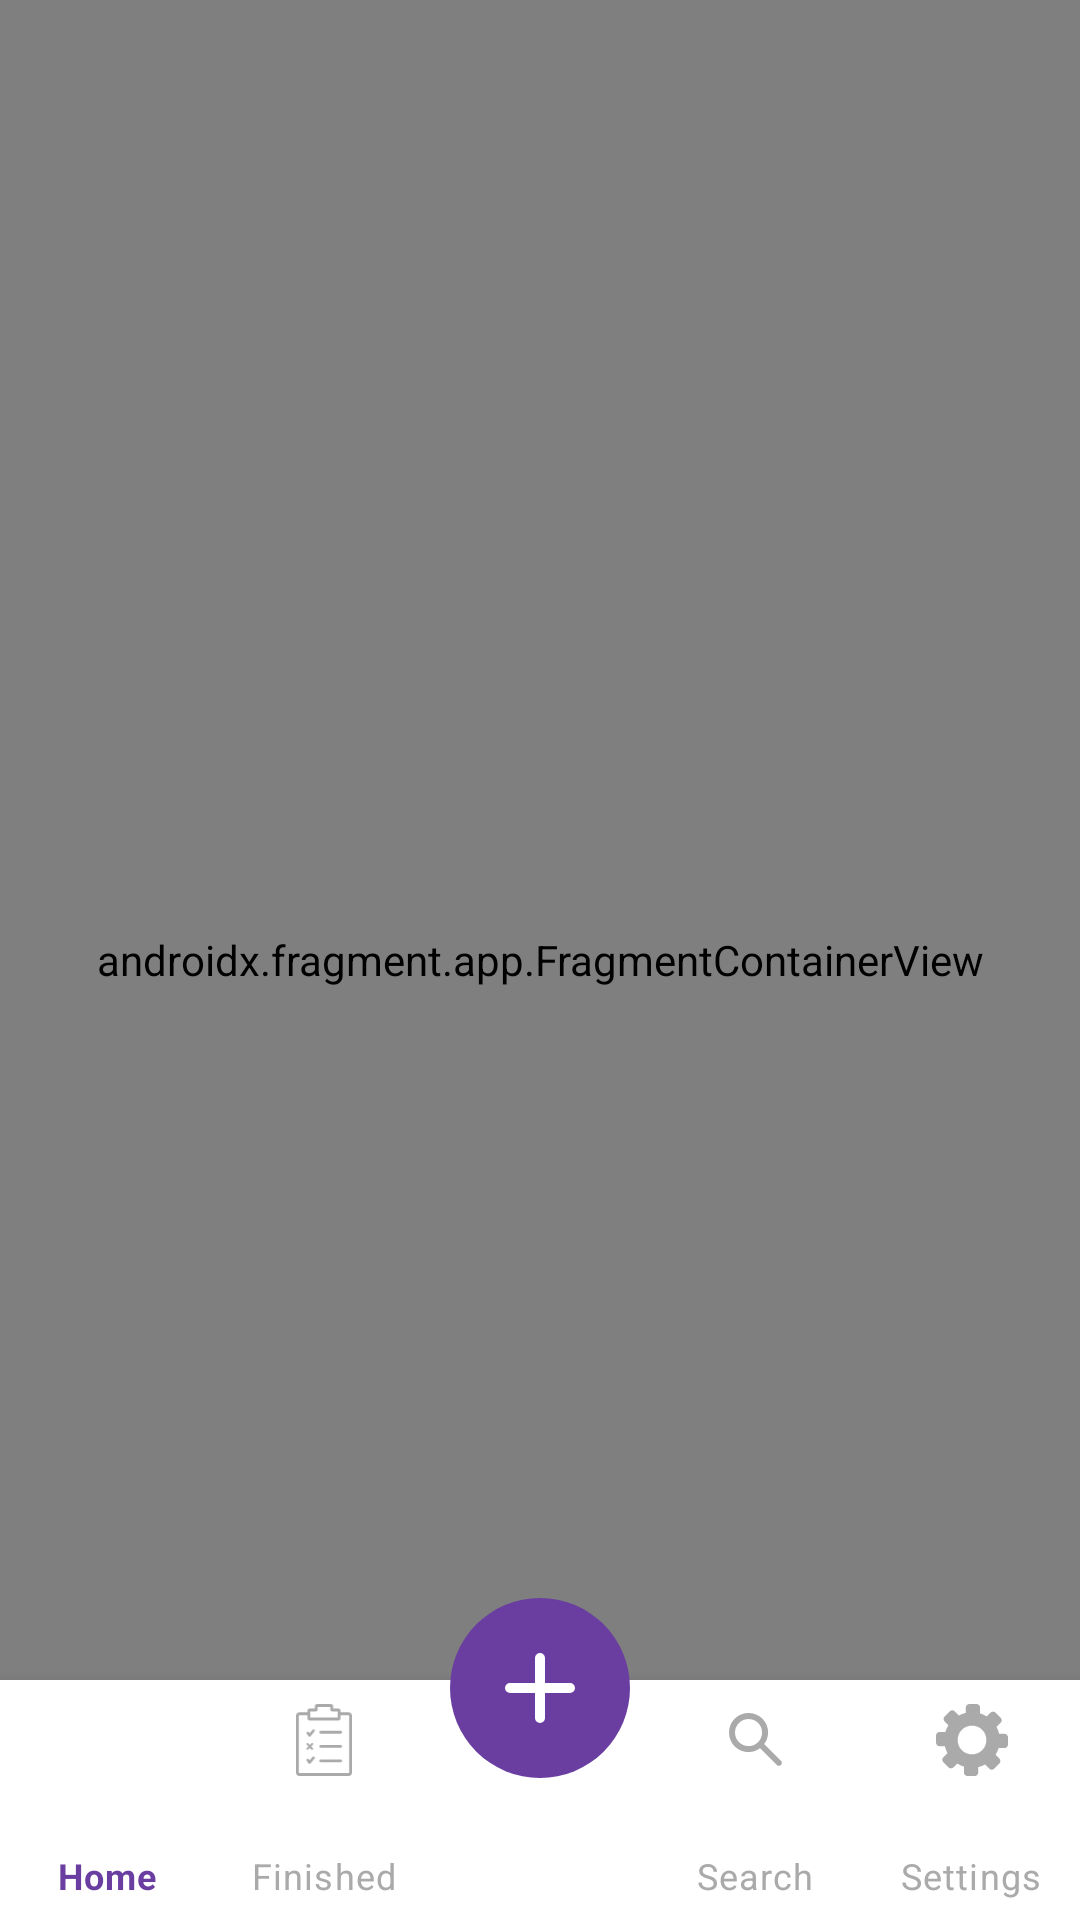

Named icons in this screenshot (1080*1920) and their centers, (x,y):
create: (540,1688)
